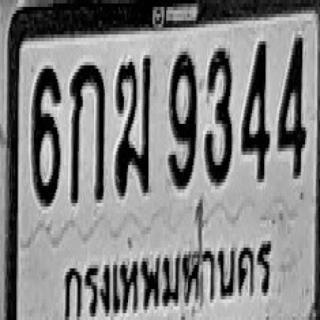A01: (70, 62, 104, 203)
A06: (114, 57, 151, 194)
N03: (205, 46, 232, 184)
N04: (277, 36, 306, 177), (241, 38, 270, 179)
N06: (32, 65, 60, 203)
N09: (168, 50, 197, 188)
P04: (59, 229, 275, 320)
